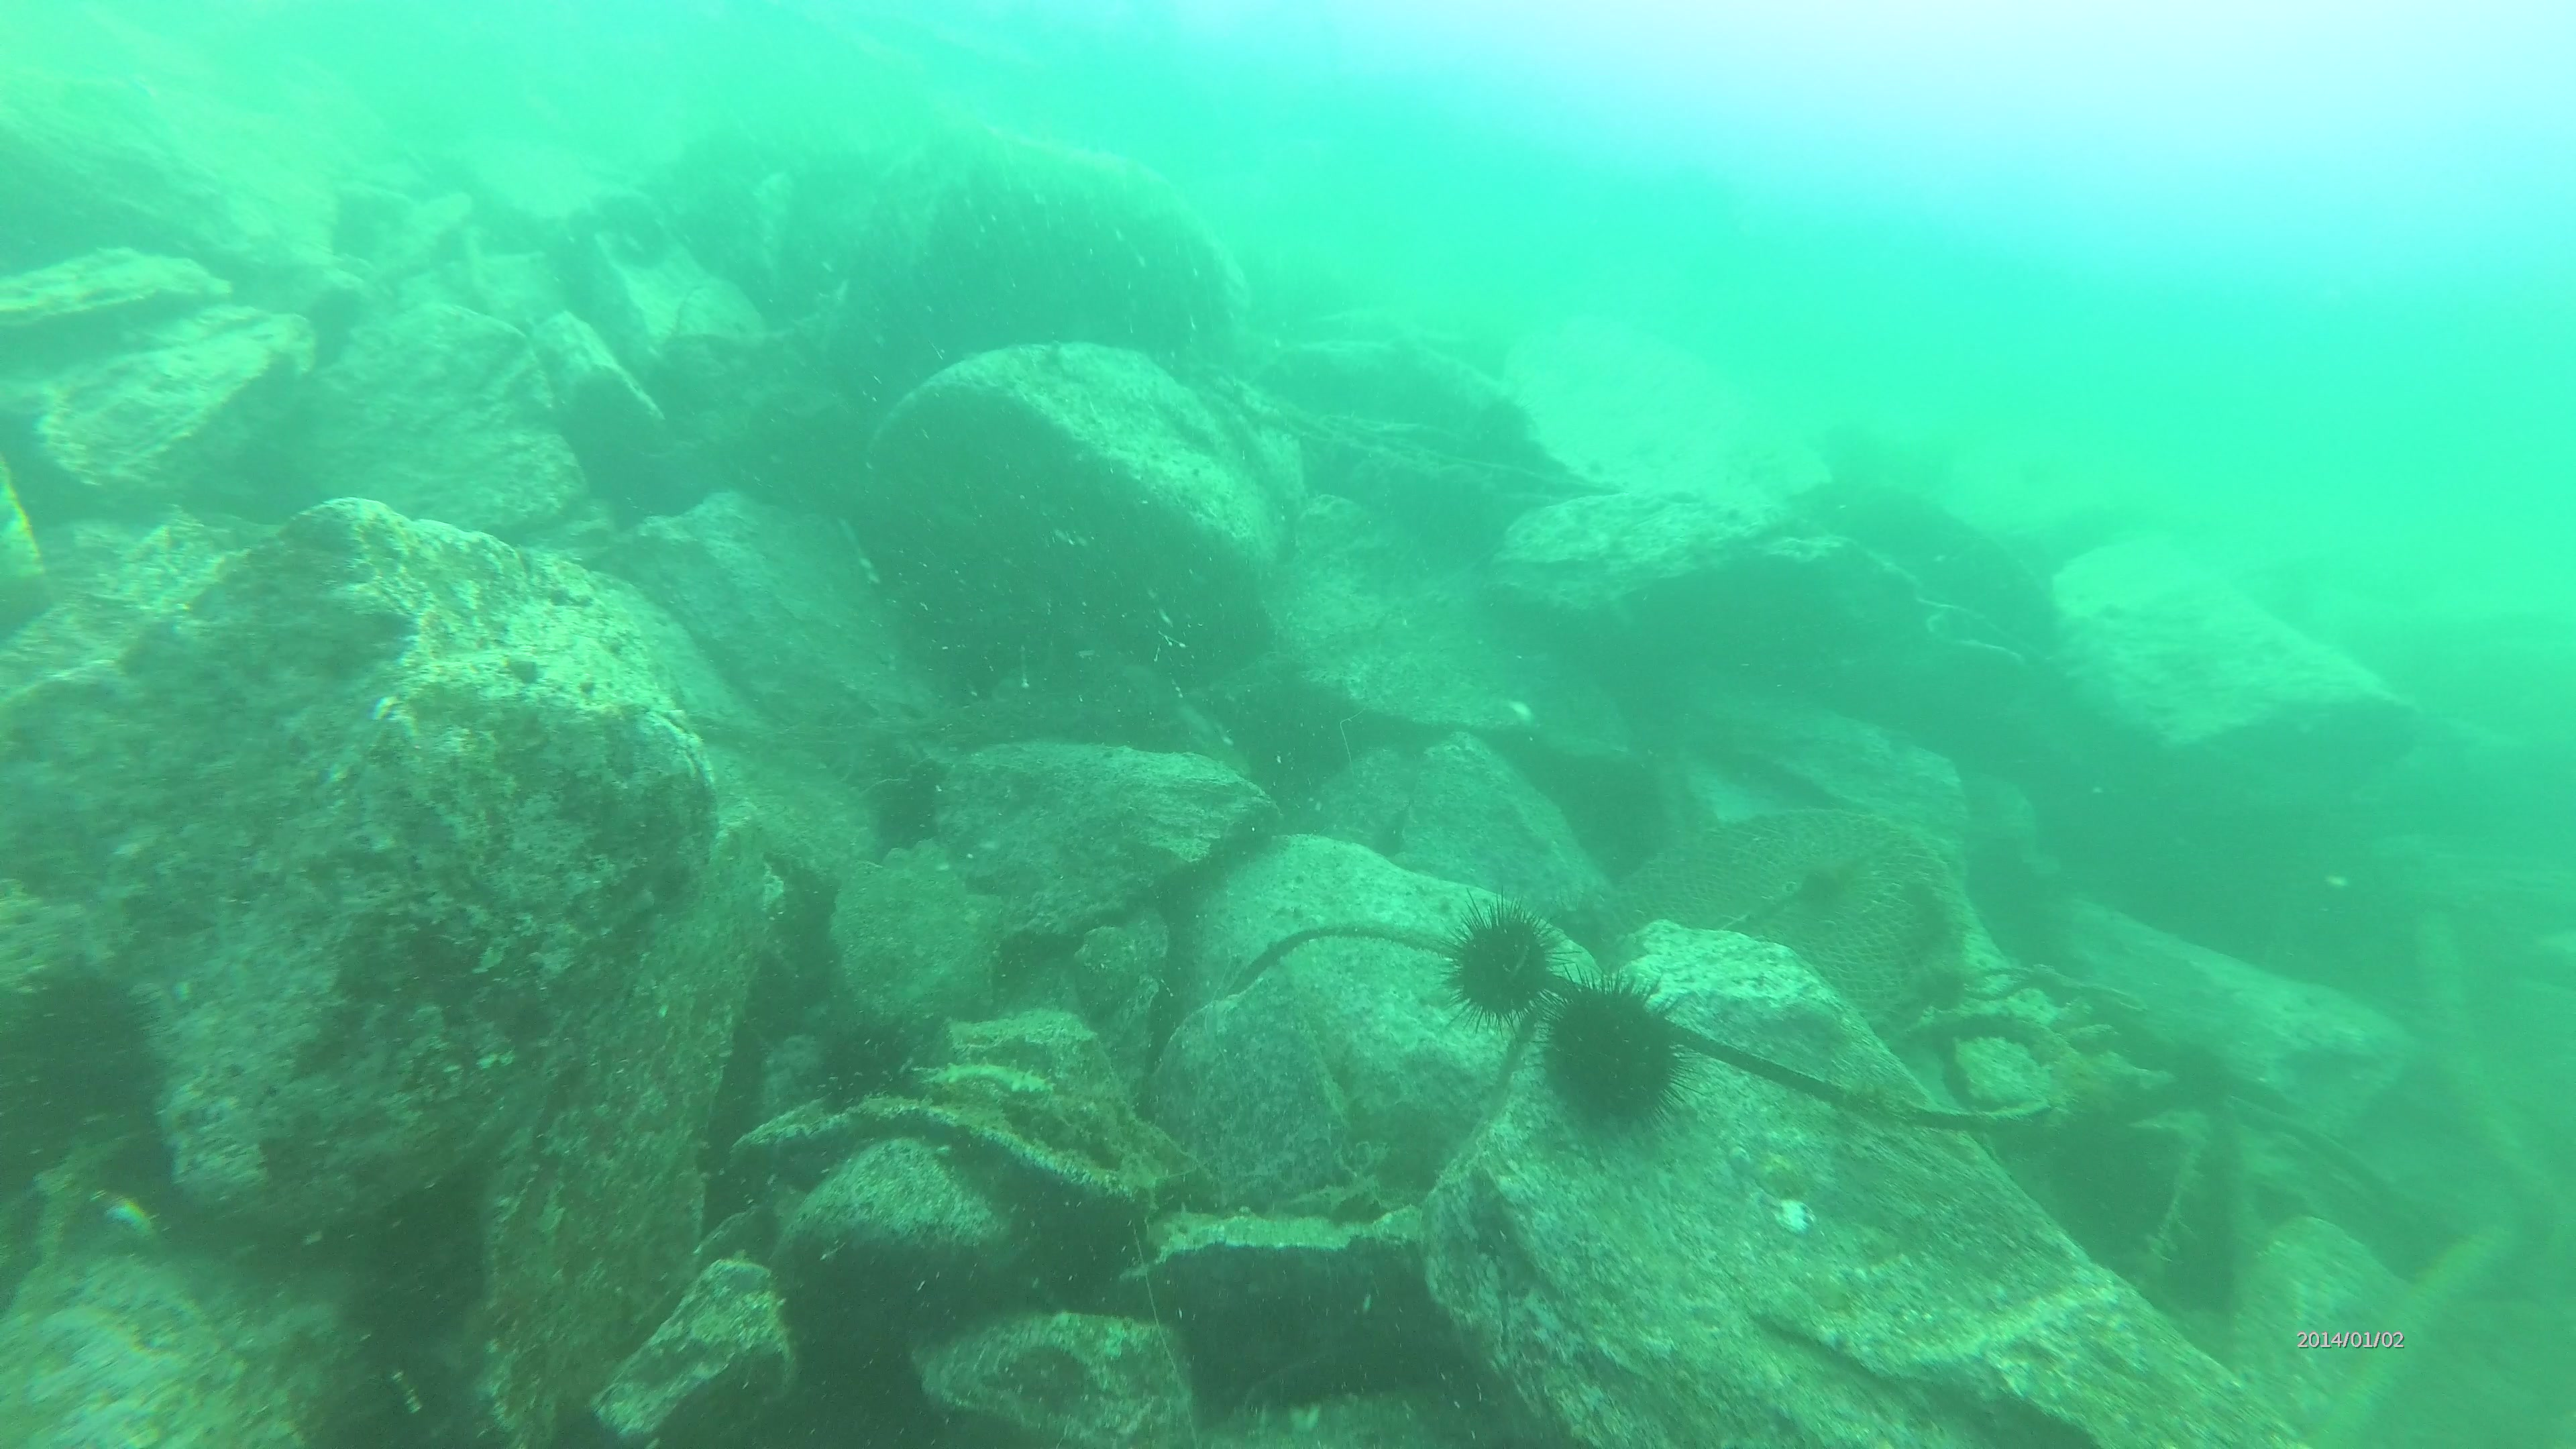echinus: (0, 948, 170, 1178), (1513, 962, 1718, 1134), (1435, 895, 1566, 1031), (798, 1021, 964, 1116), (1546, 888, 1621, 973)
holothurian: (901, 1058, 1047, 1095)
